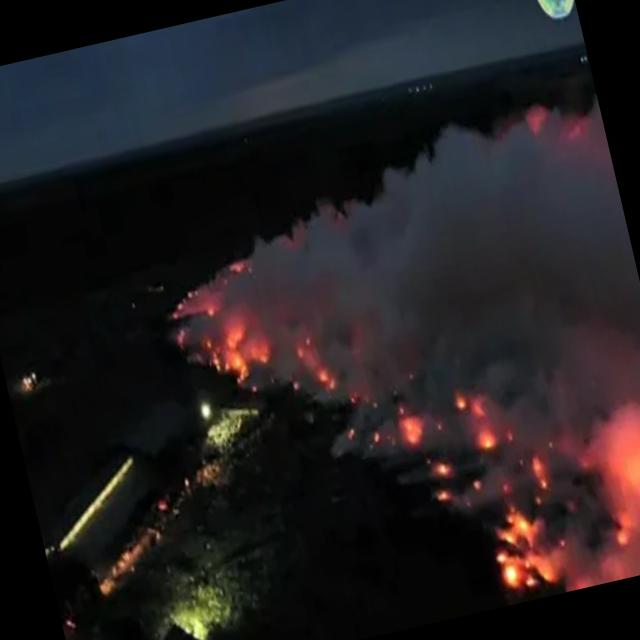Smoke: (142, 95, 640, 640)
